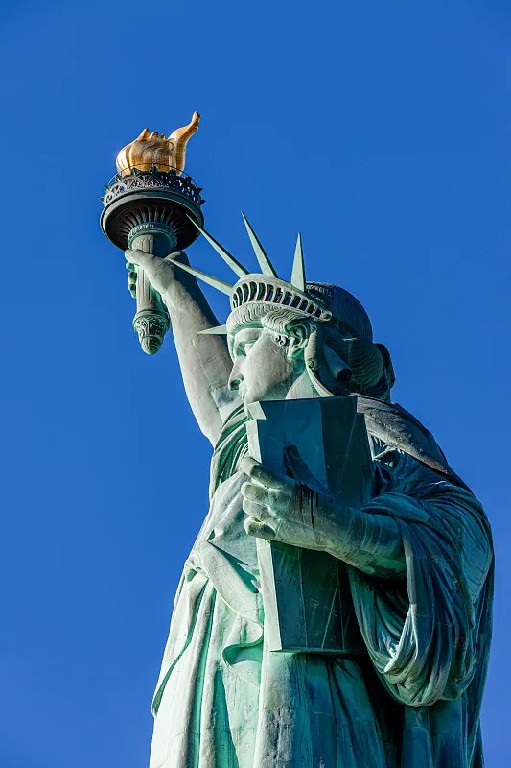SL: (100, 112, 496, 768)
